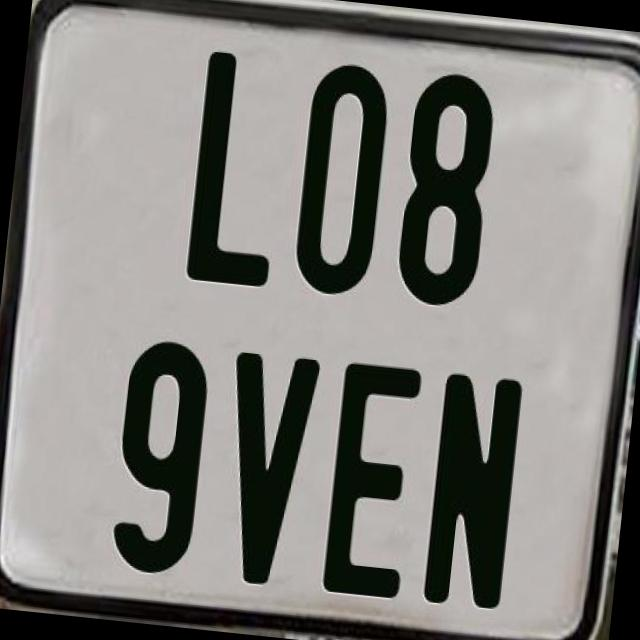0: (291, 58, 398, 298)
8: (391, 70, 498, 318)
9: (105, 334, 216, 576)
E: (322, 356, 431, 598)
L: (184, 51, 288, 287)
N: (421, 370, 528, 618)
V: (212, 348, 324, 595)
